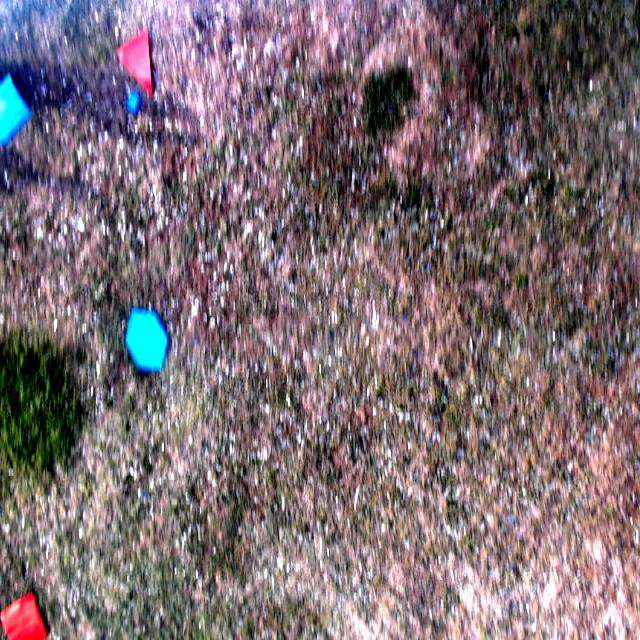blue_hexagon: (120, 307, 173, 373)
blue_square: (128, 92, 139, 110)
red_triangle: (117, 29, 154, 96)
